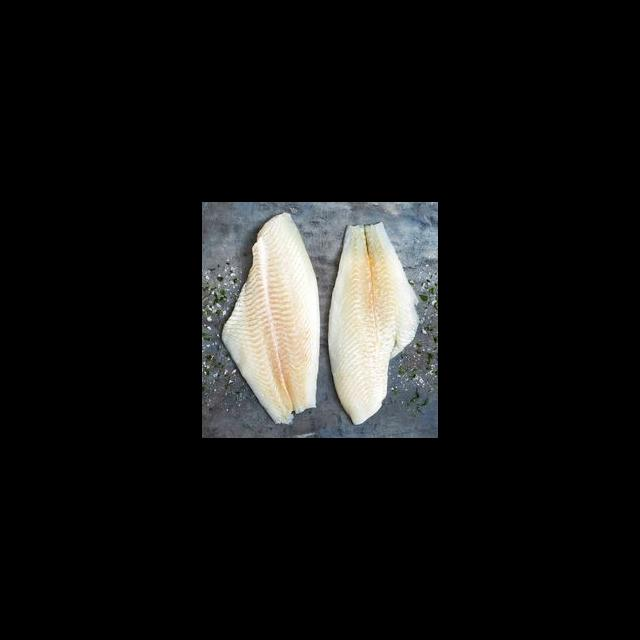fish: (218, 209, 323, 431), (325, 218, 423, 430)
